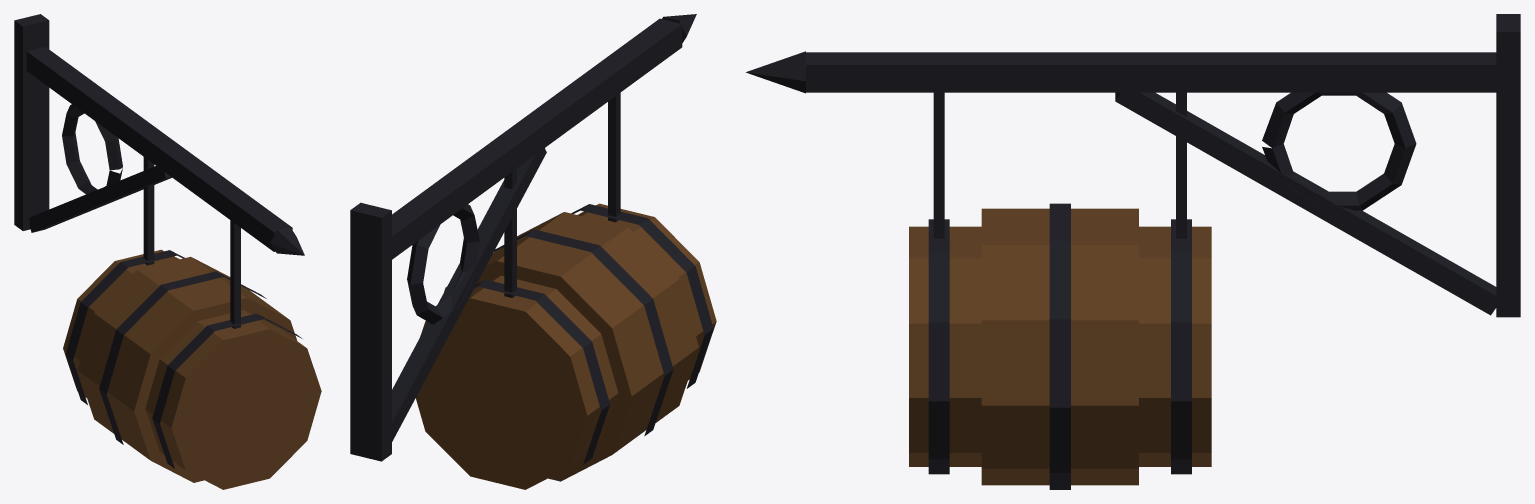
The model's file is shop-sign-grocer.glb.
The picture shows the model from 3 angles, left to right: view 1: azimuth 30°, elevation 25°; view 2: azimuth 150°, elevation 25°; view 3: azimuth 270°, elevation 25°; orthographic projection. The views are drawn at different scales.
Visible parts, largest first — view 1: shop-sign-grocer; view 2: shop-sign-grocer; view 3: shop-sign-grocer.
Part boxes in pixels (bbox=[...]): shop-sign-grocer: bbox=[14, 14, 321, 489]; shop-sign-grocer: bbox=[350, 14, 716, 489]; shop-sign-grocer: bbox=[746, 14, 1520, 489].
Bounding box in the file's own units: 0.476 × 0.8164 × 1.28.
